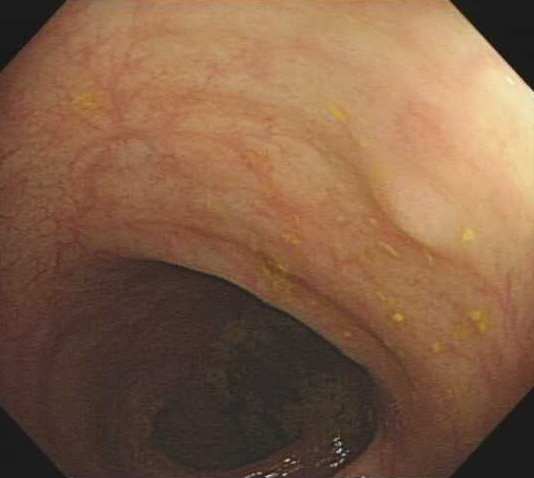adenoma: (366, 166, 461, 264)
